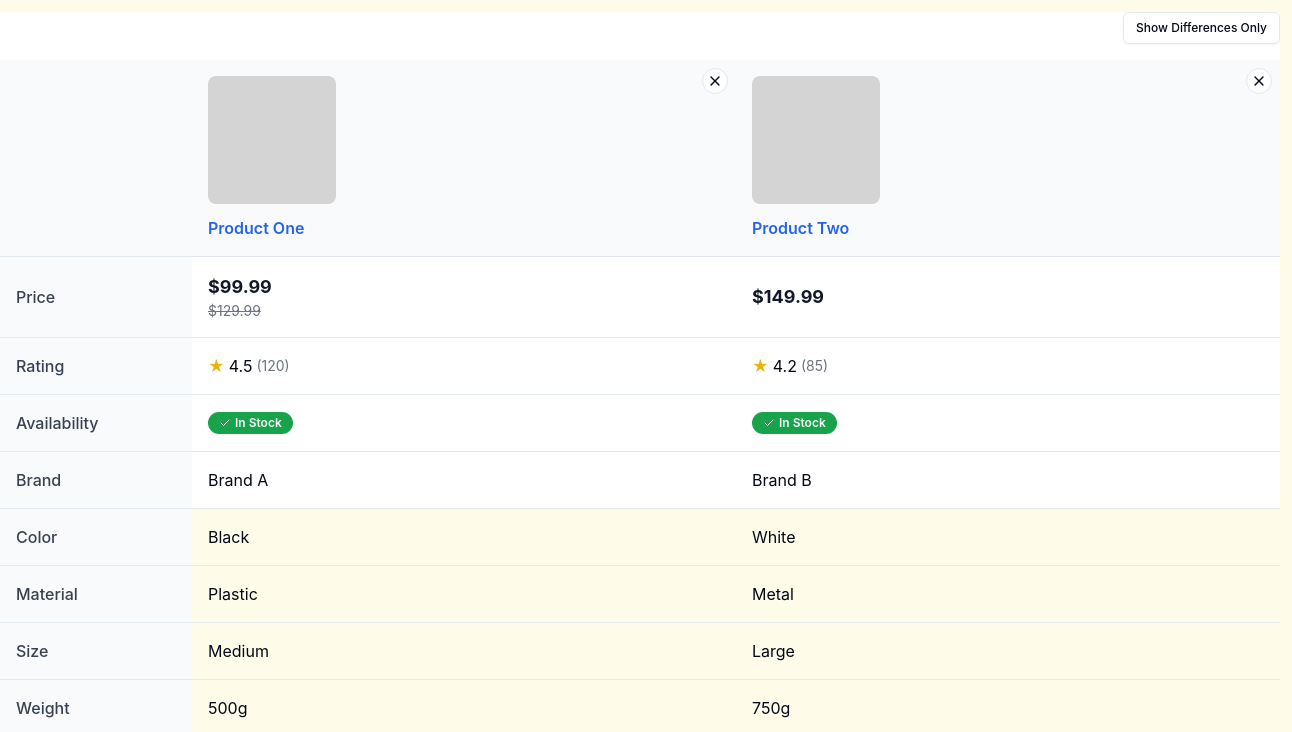
Test: ComparisonTable › should toggle show differences only
Click the button with test id "toggle-differences" at (1202,28), box [1123,12,1280,44]
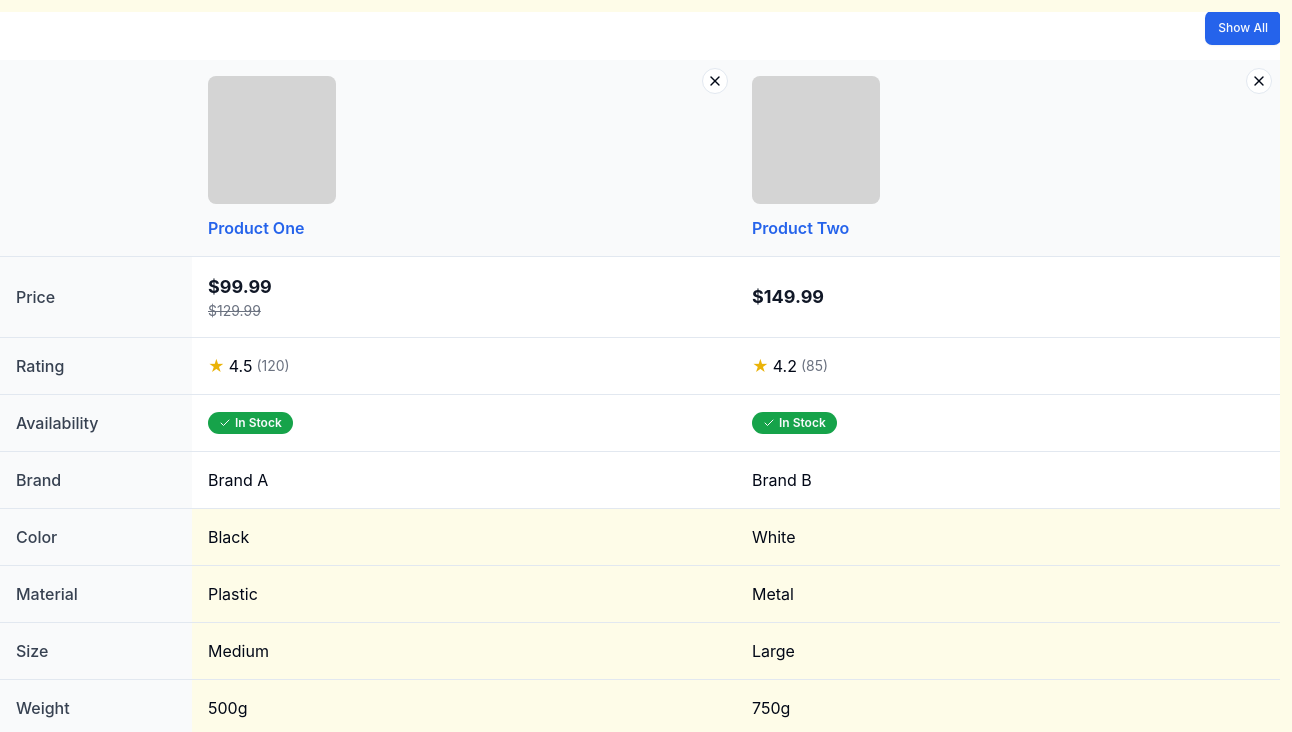
Now the button with test id "toggle-differences" reads "Show All", box [1206,12,1280,44]
